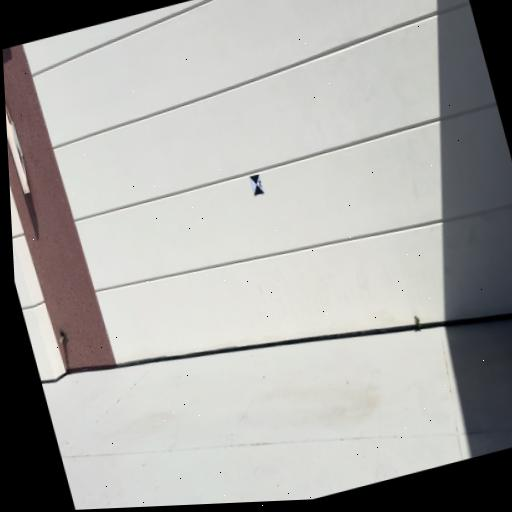target7: (249, 173, 265, 194)
